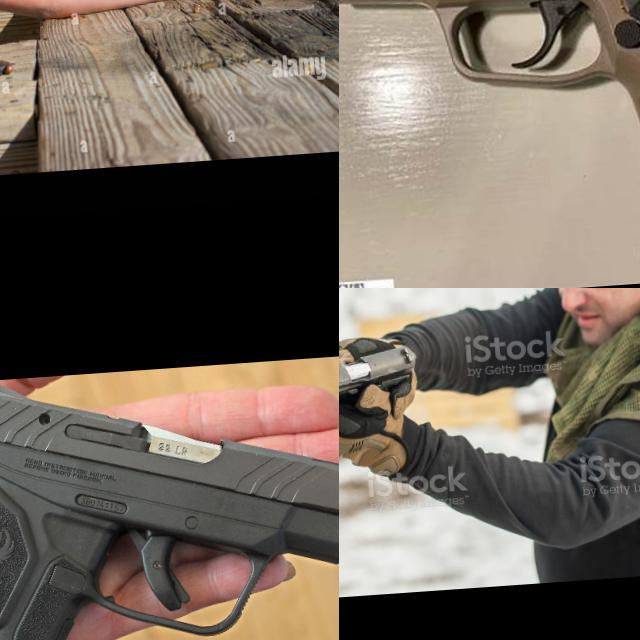handgun: (0, 354, 339, 640), (339, 0, 640, 288), (339, 341, 421, 408), (227, 0, 339, 29)
